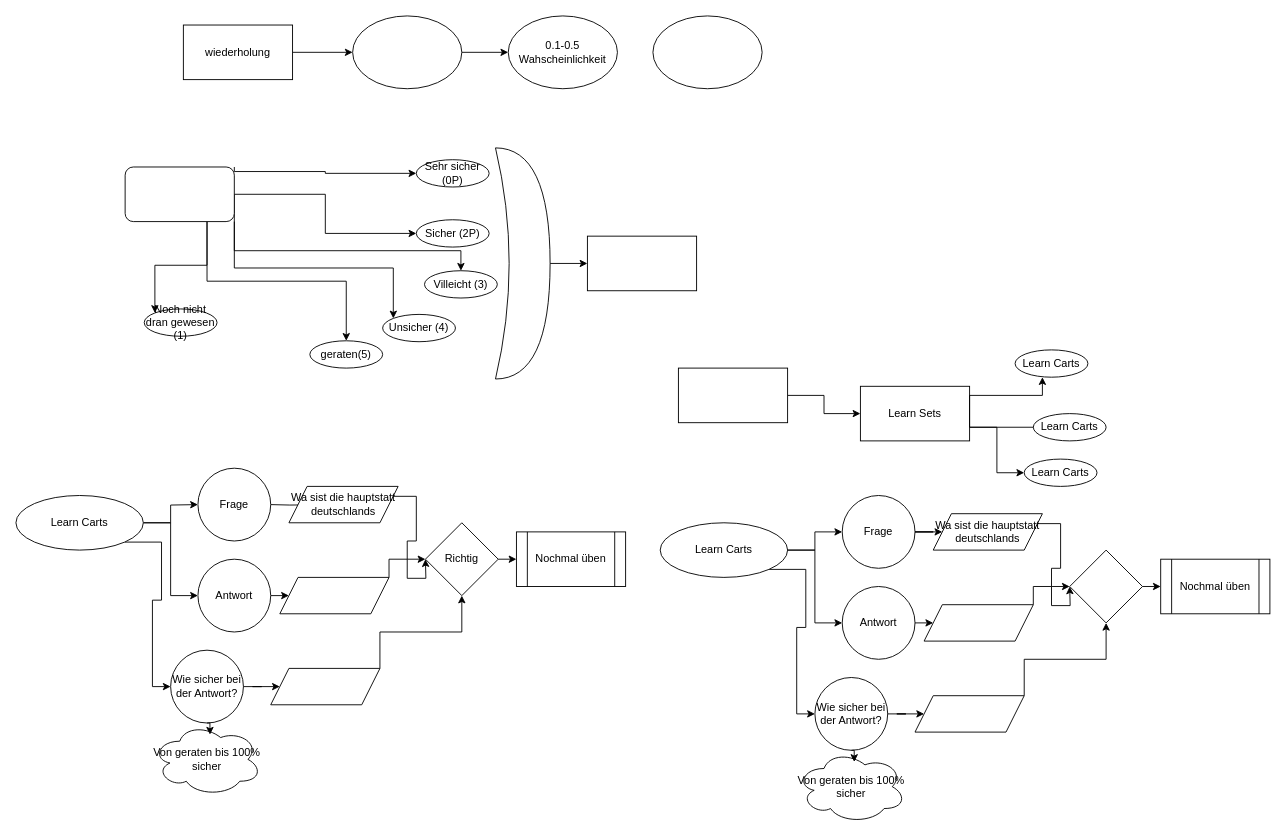
The diagram is 1286 pixels wide and 839 high, and some of its shapes have lost their labels. Each missing label, with the box of its shape:
"Sehr sicher": (914, 695, 1024, 732)
Berlin: (279, 576, 389, 614)
Confident Learning: (677, 367, 788, 423)
Dresden: (923, 604, 1033, 641)
Falsch: (1069, 549, 1143, 623)
nach prüfen der Antwort, punkte mit in frage speichern: (586, 235, 697, 291)
Nächst Karte je nach gespeicherten punkt: (652, 15, 762, 89)
Punktesystem: (124, 166, 234, 222)
Viellericht (: (270, 667, 380, 705)
zufallige Zahl zwischen 0-5: (352, 15, 462, 89)
